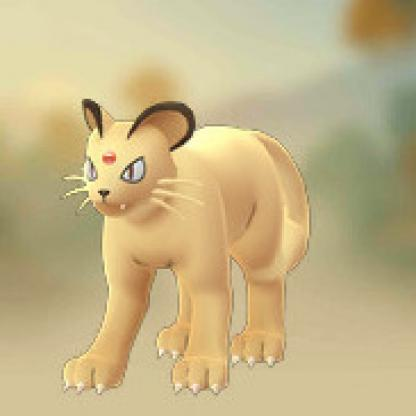Persian: (51, 101, 315, 400)
